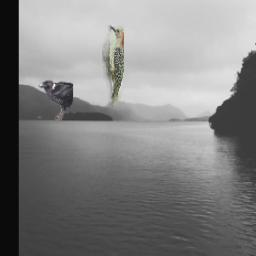Crow: (39, 81, 74, 124)
Woodpecker: (103, 25, 125, 109)
